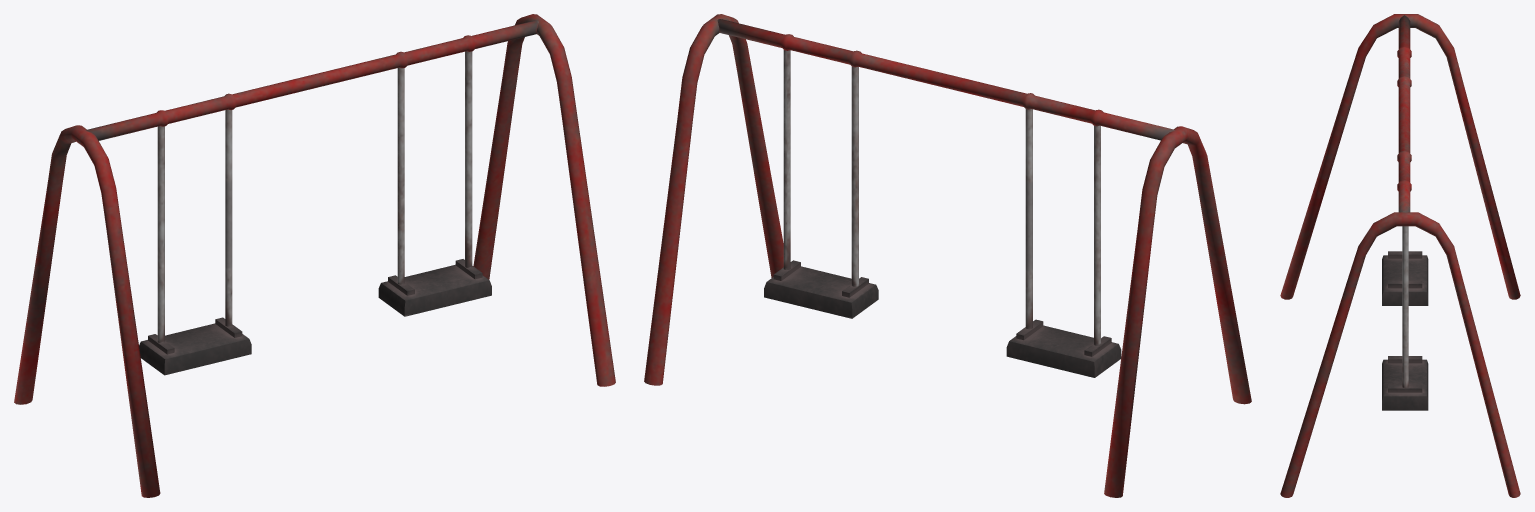
Rendered from swing_set.fbx.
The picture shows the model from 3 angles, left to right: view 1: azimuth 30°, elevation 25°; view 2: azimuth 150°, elevation 25°; view 3: azimuth 270°, elevation 25°; orthographic projection. The views are drawn at different scales.
Visible parts, largest first — view 1: swingrightside, swingleftseat, swingrightseat; view 2: swingrightside, swingleftseat, swingrightseat; view 3: swingrightside, swingleftseat, swingrightseat.
Part boxes in pixels (bbox=[...]): swingrightside: bbox=[14, 14, 615, 497]; swingleftseat: bbox=[378, 51, 491, 316]; swingrightseat: bbox=[139, 109, 251, 375]; swingrightside: bbox=[644, 14, 1251, 497]; swingleftseat: bbox=[764, 50, 878, 318]; swingrightseat: bbox=[1006, 109, 1121, 377]; swingrightside: bbox=[1280, 14, 1520, 497]; swingleftseat: bbox=[1382, 226, 1428, 410]; swingrightseat: bbox=[1382, 251, 1428, 305].
Size of the model in its own units: 211 by 136 by 105.
